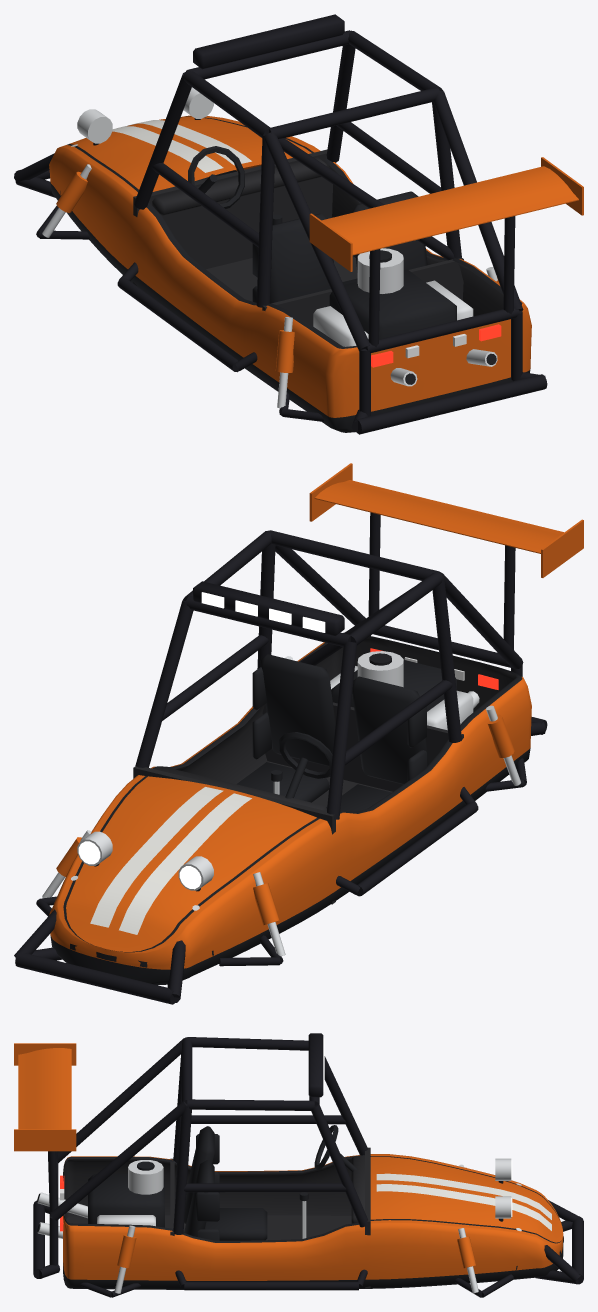
Rendered from buggy_body.glb.
The picture shows the model from 3 angles, top to bottom: view 1: azimuth 30°, elevation 25°; view 2: azimuth 150°, elevation 25°; view 3: azimuth 270°, elevation 25°; orthographic projection. The views are drawn at different scales.
Visible parts, largest first — view 1: BuggyBody, Spoiler, RearBumper, Stripes, FrontBumper; view 2: BuggyBody, Spoiler, Stripes, FrontBumper; view 3: BuggyBody, Spoiler, Stripes, FrontBumper, RearBumper.
Boxes of the visible parts, x1,y1,x2,y2 form: BuggyBody: [36, 14, 531, 432]; Spoiler: [309, 157, 583, 347]; RearBumper: [351, 372, 547, 434]; Stripes: [112, 120, 251, 172]; FrontBumper: [14, 153, 55, 197]; BuggyBody: [36, 530, 531, 985]; Spoiler: [309, 463, 583, 661]; Stripes: [90, 787, 251, 934]; FrontBumper: [14, 909, 185, 1004]; BuggyBody: [37, 1033, 563, 1297]; Spoiler: [14, 1043, 76, 1212]; Stripes: [376, 1173, 551, 1230]; FrontBumper: [535, 1200, 583, 1284]; RearBumper: [33, 1200, 59, 1278].
Size of the model in its own units: 1.46 by 1.49 by 3.85.
